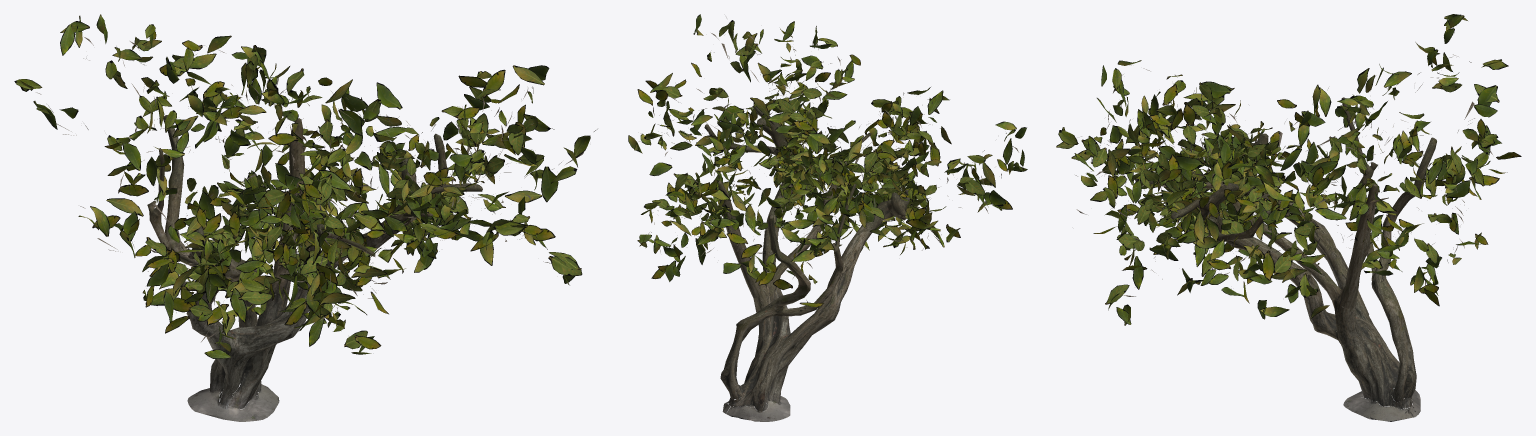
The model's file is island_tree_02.glb.
3 views of the same model, side by side, from view 1: azimuth 30°, elevation 25°; view 2: azimuth 150°, elevation 25°; view 3: azimuth 270°, elevation 25° (orthographic). The views are drawn at different scales.
Parts seen in each view (by area): view 1: island_tree_02_LOD0.002, island_tree_02_LOD0.001, island_tree_02_LOD0; view 2: island_tree_02_LOD0.002, island_tree_02_LOD0.001, island_tree_02_LOD0; view 3: island_tree_02_LOD0.002, island_tree_02_LOD0.001, island_tree_02_LOD0.
Boxes of the visible parts, bbox=[...] form: island_tree_02_LOD0.002: bbox=[14, 14, 590, 358]; island_tree_02_LOD0.001: bbox=[147, 115, 482, 421]; island_tree_02_LOD0: bbox=[36, 37, 597, 341]; island_tree_02_LOD0.002: bbox=[628, 14, 1027, 306]; island_tree_02_LOD0.001: bbox=[704, 105, 911, 421]; island_tree_02_LOD0: bbox=[639, 17, 1018, 302]; island_tree_02_LOD0.002: bbox=[1056, 14, 1521, 325]; island_tree_02_LOD0.001: bbox=[1135, 97, 1436, 421]; island_tree_02_LOD0: bbox=[1075, 27, 1492, 304].
Size of the model in its own units: 3.95 by 3.42 by 4.18.
Materials: 3 (3 with a texture image).
